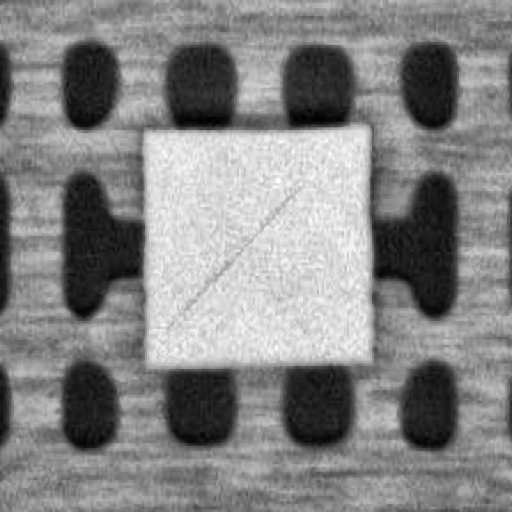DIE_CRACK: (247, 124, 443, 218)
